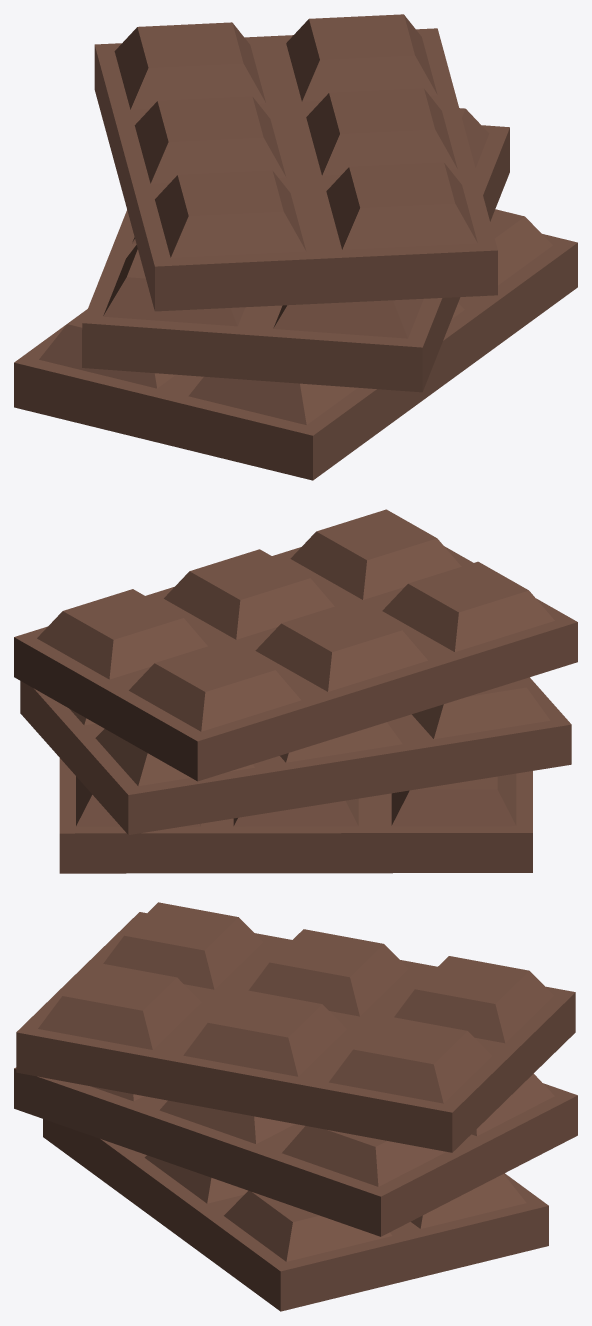
Rendered from chocolate.glb.
3 renders of one model, top to bottom at view 1: azimuth 30°, elevation 25°; view 2: azimuth 150°, elevation 25°; view 3: azimuth 270°, elevation 25°, orthographic. The views are drawn at different scales.
Visible parts, largest first — view 1: node-0; view 2: node-0; view 3: node-0.
Boxes of the visible parts, x1,y1,x2,y2 form: node-0: (14, 14, 577, 480); node-0: (14, 509, 577, 873); node-0: (14, 902, 577, 1311).
Bounding box in the file's own units: 230 × 93.74 × 229.
